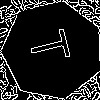T: (27, 25, 80, 66)
